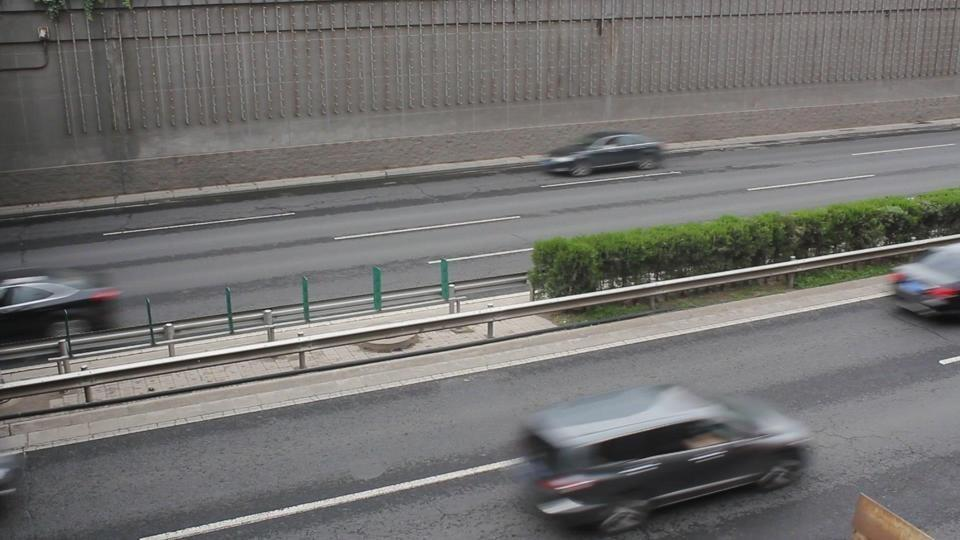car: (518, 383, 810, 534), (0, 273, 122, 336), (885, 242, 960, 318), (539, 133, 665, 178), (0, 433, 25, 511)
